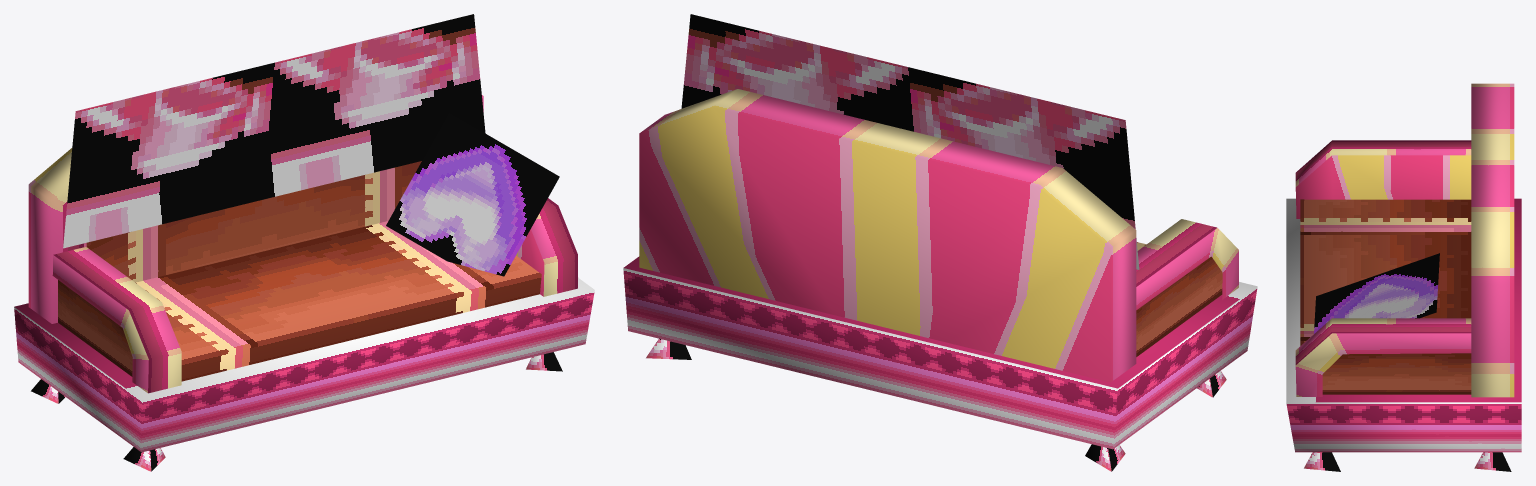
The picture shows the model from 3 angles, left to right: view 1: azimuth 30°, elevation 25°; view 2: azimuth 150°, elevation 25°; view 3: azimuth 270°, elevation 25°; orthographic projection. The views are drawn at different scales.
Visible parts, largest first — view 1: 3751dl_cocoa; view 2: 3751dl_cocoa; view 3: 3751dl_cocoa.
Boxes of the visible parts, x1,y1,x2,y2 form: 3751dl_cocoa: (14, 14, 594, 471); 3751dl_cocoa: (623, 14, 1257, 471); 3751dl_cocoa: (1286, 83, 1521, 471).
Bounding box in the file's own units: 1.95 × 1.22 × 0.9531.
4 materials, 4 textured.
